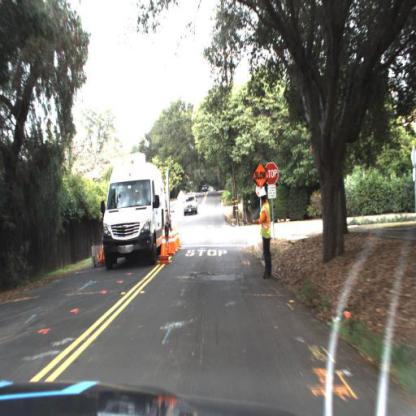car: (100, 146, 173, 275), (183, 191, 199, 216), (185, 193, 199, 216), (202, 184, 211, 197)
pedestrian: (254, 183, 279, 281)
